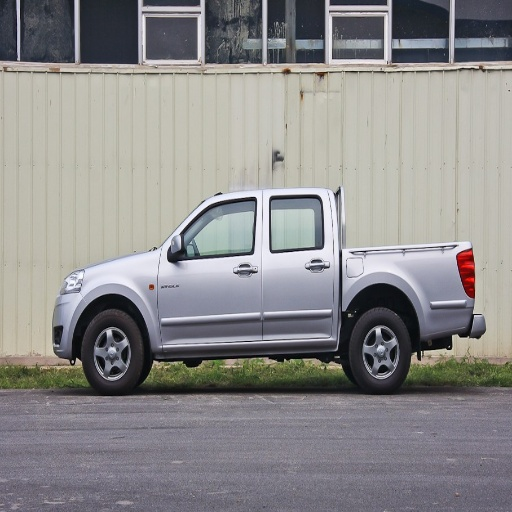back_left_door: (264, 193, 334, 338)
front_left_door: (158, 196, 262, 344)
trunk: (338, 248, 472, 339)
